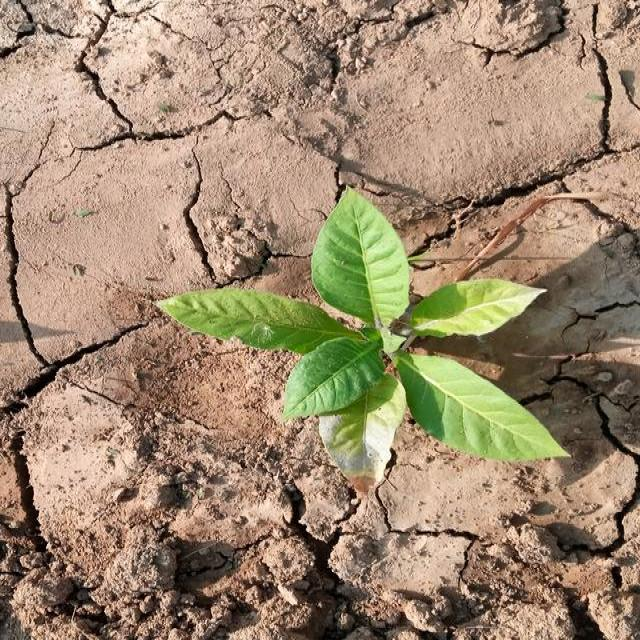crop: (157, 183, 574, 491)
